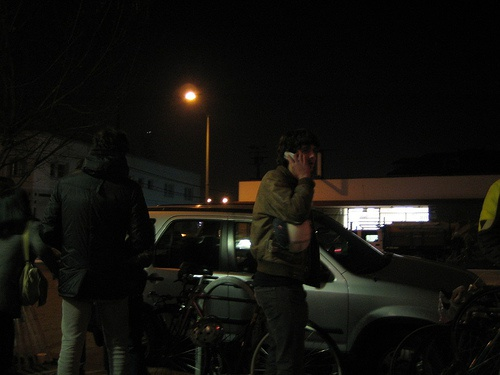non-vehicle: (134, 260, 347, 370), (446, 285, 500, 366)
